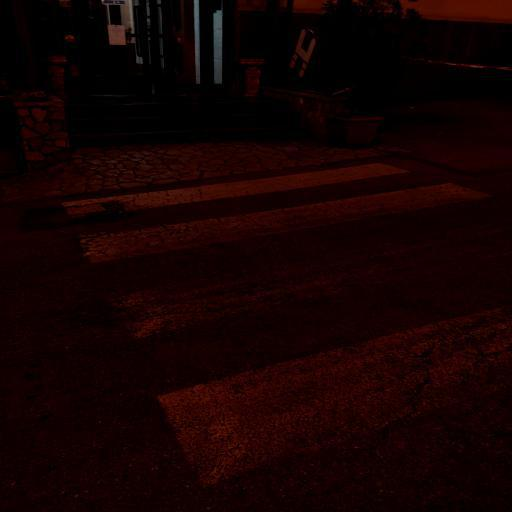crosswalk: (50, 158, 500, 272)
